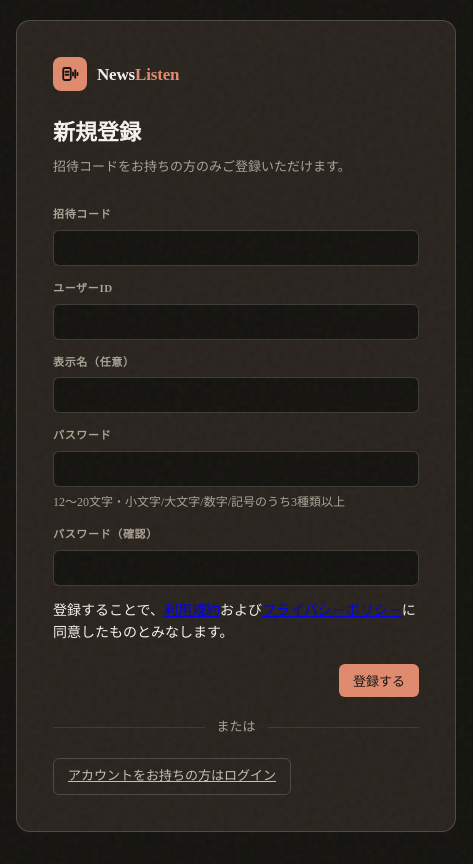
Test: SignupPage — client-side validation › shows an error when the password is too weak
Type "newbie" into the field labelled "ユーザーID" at (236, 322), box [53,304,419,340]
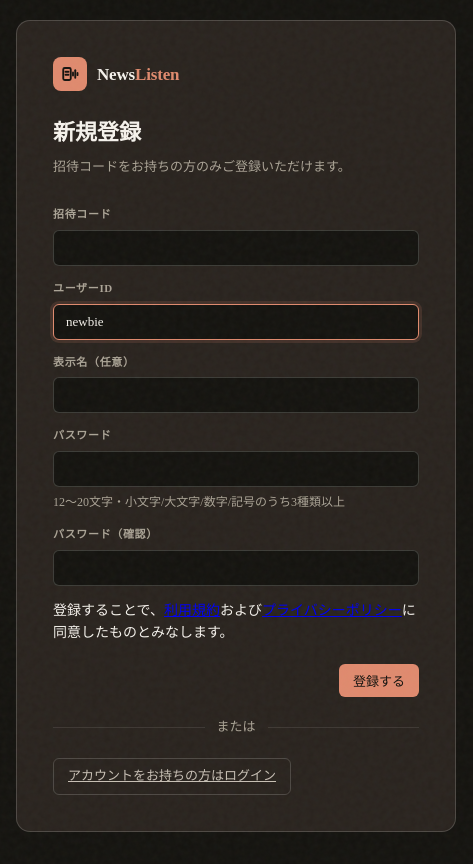
Type "short1A" into the password field labelled "パスワード" at (236, 469), box [53,451,419,487]
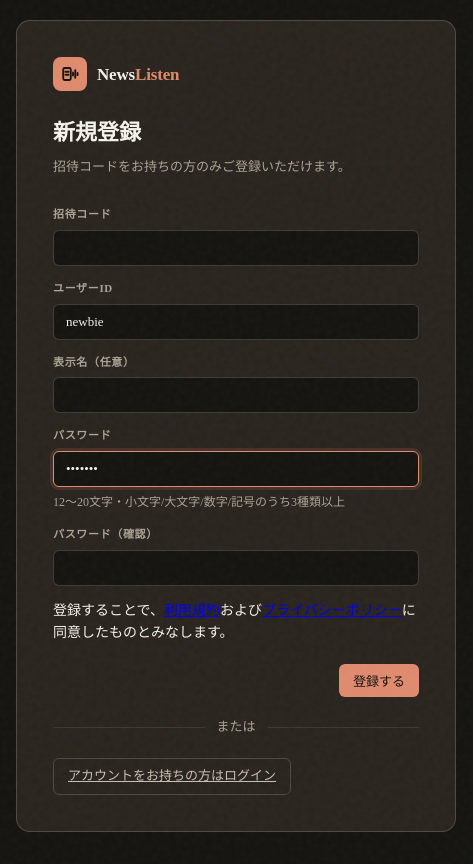
Type "short1A" into the password field labelled "パスワード（確認）" at (236, 568), box [53,550,419,586]
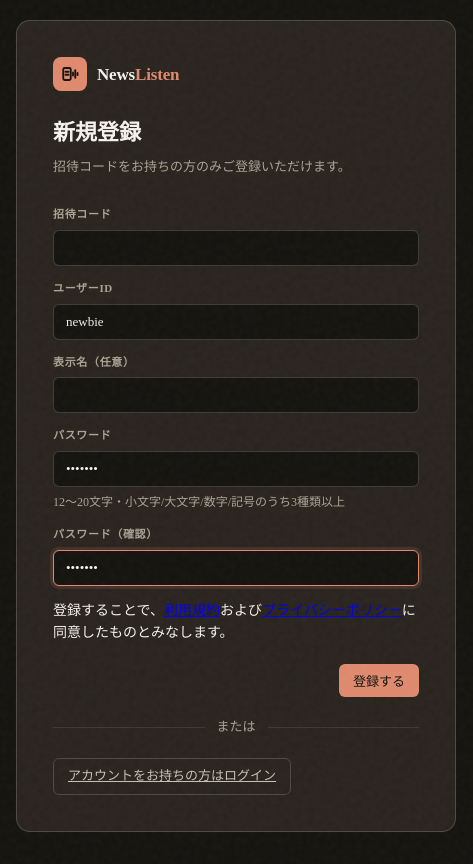
Click the button "登録する" at (379, 681), box [339,664,419,697]
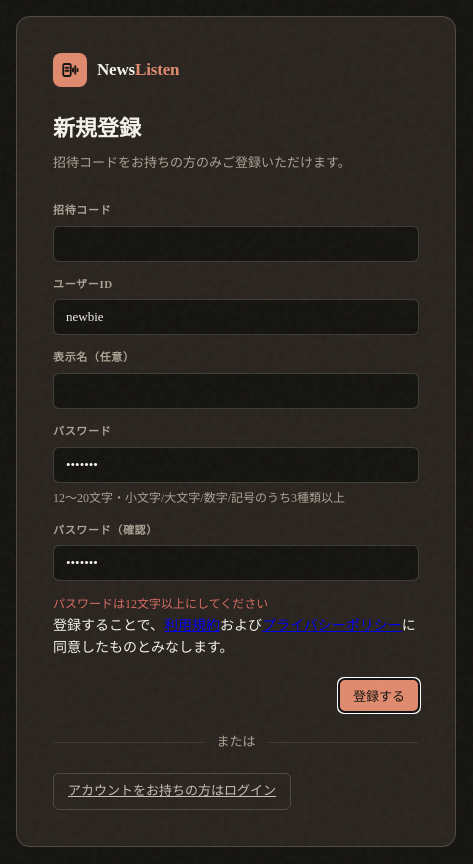
Now the text "パスワードは12文字以上にしてください" is shown, box [53,597,268,611]
